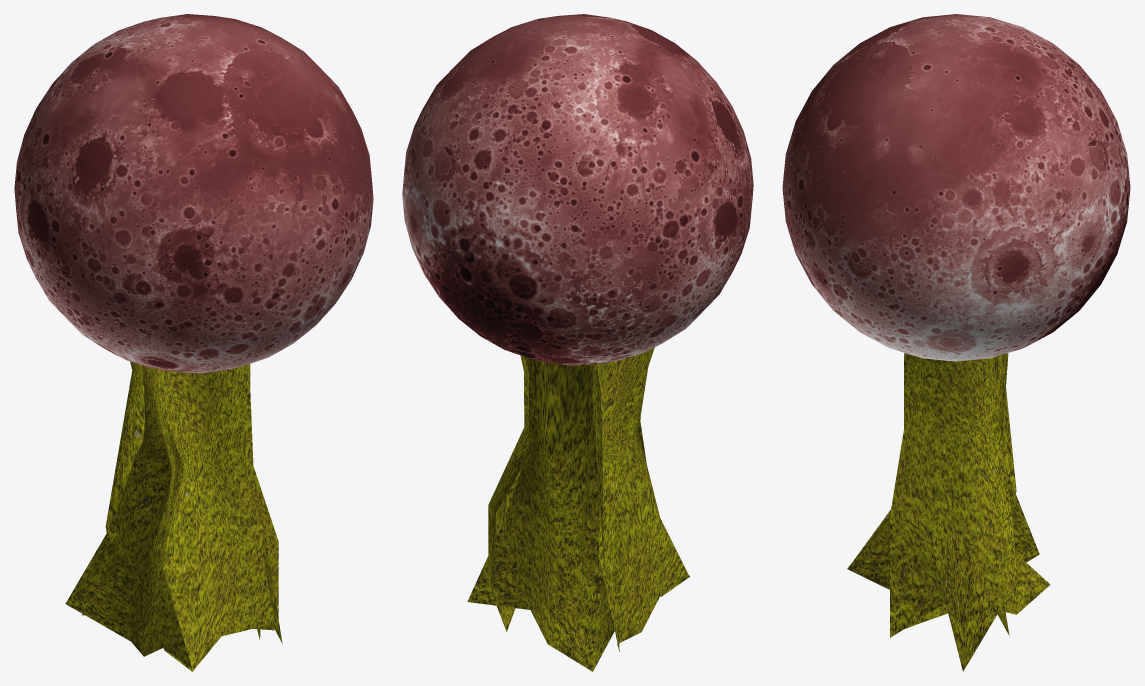
The model's file is moontree2.FBX.
3 renders of one model, left to right at view 1: azimuth 30°, elevation 25°; view 2: azimuth 150°, elevation 25°; view 3: azimuth 270°, elevation 25°, orthographic. The views are drawn at different scales.
Parts seen in each view (by area): view 1: Sphere001, Plane002; view 2: Sphere001, Plane002, Plane003; view 3: Sphere001, Plane002.
Part boxes in pixels (bbox=[...]): Sphere001: bbox=[14, 14, 373, 373]; Plane002: bbox=[65, 361, 282, 671]; Sphere001: bbox=[402, 14, 753, 365]; Plane002: bbox=[467, 347, 689, 671]; Plane003: bbox=[580, 411, 612, 637]; Sphere001: bbox=[782, 14, 1130, 361]; Plane002: bbox=[847, 353, 1050, 671].
Size of the model in its own units: 0.0303 by 0.0303 by 0.0585.
2 materials, 2 textured.
